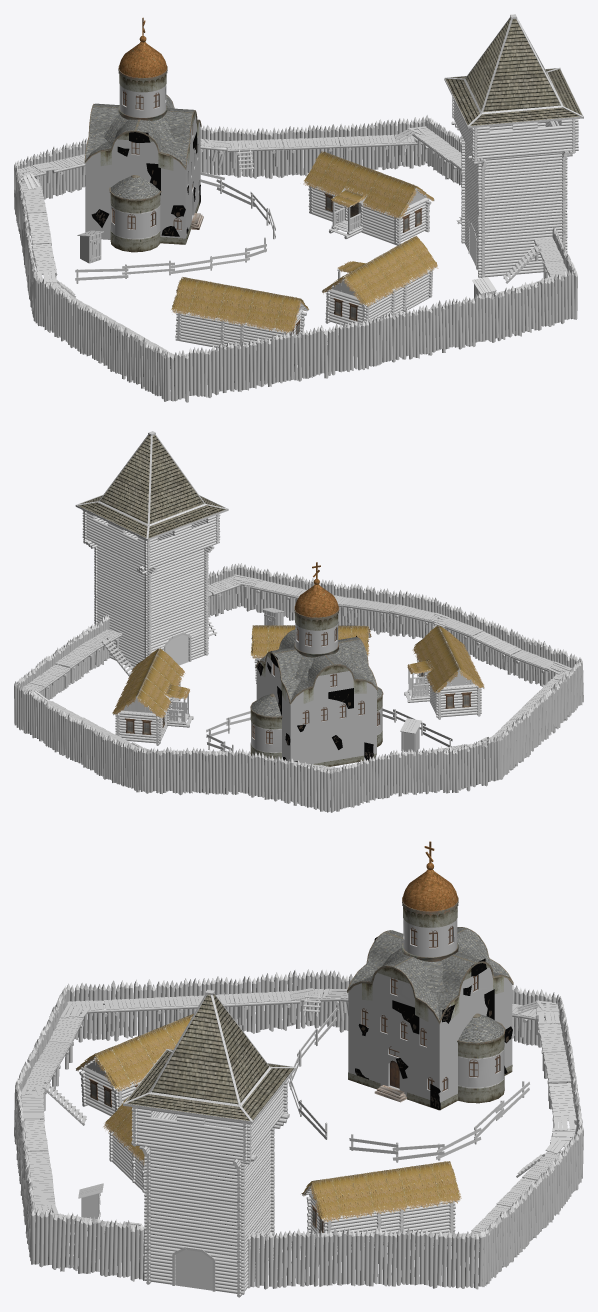
File: Village2.fbx
The picture shows the model from 3 angles, top to bottom: view 1: azimuth 30°, elevation 25°; view 2: azimuth 150°, elevation 25°; view 3: azimuth 270°, elevation 25°; orthographic projection. The views are drawn at different scales.
Parts seen in each view (by area): view 1: Object_359.001, Object_490, Object_181, Object_360, Object_92, Object_87, Object_548, Object_81, Object_90, Object_13, Object_133, Object_75 (+7 smaller); view 2: Object_359.001, Object_490, Object_181, Object_90, Object_360, Object_87, Object_548, Object_92, Object_81, Object_75, Object_129, Object_70 (+6 smaller); view 3: Object_359.001, Object_490, Object_181, Object_90, Object_360, Object_87, Object_92, Object_548, Object_81, Object_75, Object_319, Object_8 (+10 smaller).
Part boxes in pixels (x1,y1,x2,y2): Object_359.001: (14, 14, 583, 402); Object_490: (171, 151, 438, 333); Object_181: (445, 18, 581, 125); Object_360: (14, 115, 577, 358); Object_92: (85, 131, 185, 244); Object_87: (85, 95, 197, 166); Object_548: (21, 97, 578, 347); Object_81: (119, 42, 166, 77); Object_90: (185, 116, 200, 237); Object_13: (110, 204, 160, 238); Object_133: (91, 132, 185, 236); Object_75: (119, 84, 166, 117); Object_359.001: (14, 431, 583, 812); Object_490: (112, 625, 484, 718); Object_181: (78, 435, 225, 538); Object_90: (290, 671, 376, 763); Object_360: (14, 563, 582, 773); Object_87: (260, 630, 376, 701); Object_548: (40, 510, 550, 745); Object_92: (256, 656, 290, 761); Object_81: (295, 584, 338, 617); Object_75: (295, 623, 338, 653); Object_129: (297, 688, 373, 760); Object_70: (252, 627, 379, 743); Object_359.001: (14, 974, 583, 1296); Object_490: (76, 1014, 461, 1222); Object_181: (126, 994, 293, 1120); Object_90: (348, 973, 461, 1099); Object_360: (15, 969, 583, 1240); Object_87: (349, 927, 510, 1019); Object_92: (403, 967, 512, 1102); Object_548: (24, 996, 576, 1297); Object_81: (402, 869, 457, 911); Object_75: (403, 918, 457, 957); Object_319: (175, 1249, 212, 1290); Object_8: (458, 1049, 504, 1087).
Size of the model in its own units: 3805 by 1815 by 3287.
